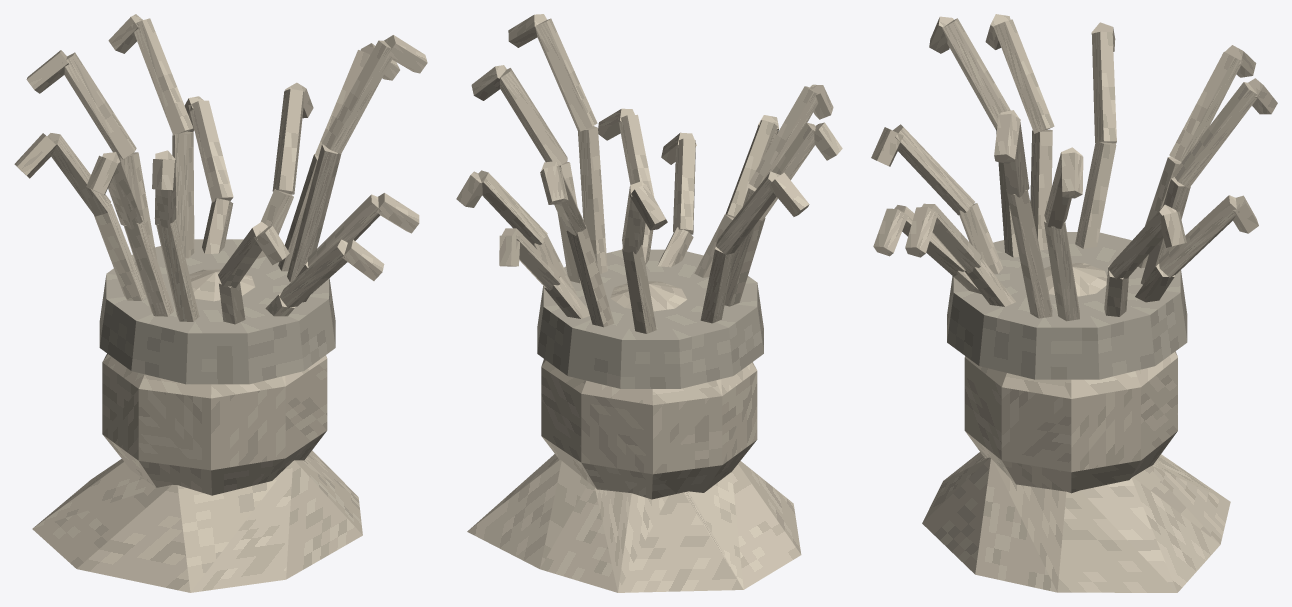
Rendered from f_alien_anemone.glb.
The picture shows the model from 3 angles, left to right: view 1: azimuth 30°, elevation 25°; view 2: azimuth 150°, elevation 25°; view 3: azimuth 270°, elevation 25°; orthographic projection. The views are drawn at different scales.
Parts seen in each view (by area): view 1: block_white-anemone-base, block_folded-white-anemone-column, block_curved-tentacle-2 (×12), block_rippled-mouth-collar, block_curved-tentacle-1 (×10), block_curved-tentacle-3 (×9); view 2: block_white-anemone-base, block_folded-white-anemone-column, block_curved-tentacle-2 (×12), block_rippled-mouth-collar, block_curved-tentacle-1 (×10), block_curved-tentacle-3 (×9); view 3: block_white-anemone-base, block_folded-white-anemone-column, block_curved-tentacle-2 (×12), block_rippled-mouth-collar, block_curved-tentacle-1 (×11), block_curved-tentacle-3 (×8).
Boxes of the visible parts, x1,y1,x2,y2 form: block_white-anemone-base: [32, 450, 362, 592]; block_folded-white-anemone-column: [102, 269, 327, 495]; block_curved-tentacle-2 (×12): [47, 18, 392, 307]; block_rippled-mouth-collar: [99, 239, 335, 384]; block_curved-tentacle-1 (×10): [94, 131, 341, 324]; block_curved-tentacle-3 (×9): [14, 14, 427, 280]; block_white-anemone-base: [467, 454, 801, 592]; block_folded-white-anemone-column: [541, 281, 757, 499]; block_curved-tentacle-2 (×12): [478, 18, 818, 290]; block_rippled-mouth-collar: [537, 249, 763, 388]; block_curved-tentacle-1 (×10): [534, 126, 765, 333]; block_curved-tentacle-3 (×9): [456, 14, 842, 266]; block_white-anemone-base: [922, 452, 1230, 592]; block_folded-white-anemone-column: [964, 263, 1177, 493]; block_curved-tentacle-2 (×12): [893, 18, 1259, 279]; block_rippled-mouth-collar: [947, 232, 1187, 379]; block_curved-tentacle-1 (×11): [959, 128, 1190, 321]; block_curved-tentacle-3 (×8): [871, 78, 1277, 257].
Bounding box in the file's own units: 0.6117 × 0.7609 × 0.5786.
1 material, 1 textured.
